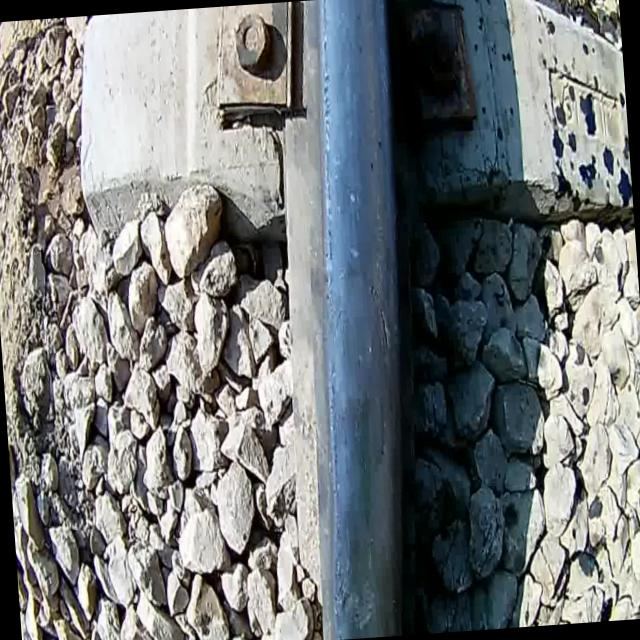Cracks: (357, 268, 404, 377)
Squats: (310, 518, 399, 640), (320, 379, 400, 508)
